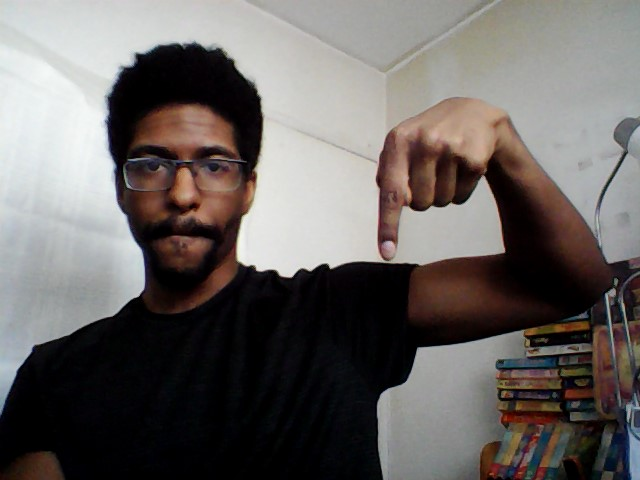q: (371, 93, 514, 269)
